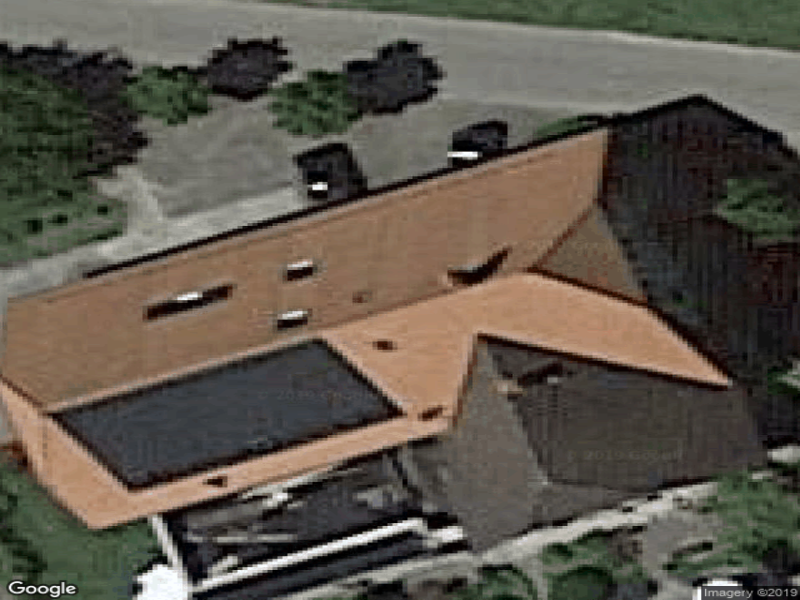pv: (45, 337, 407, 492)
